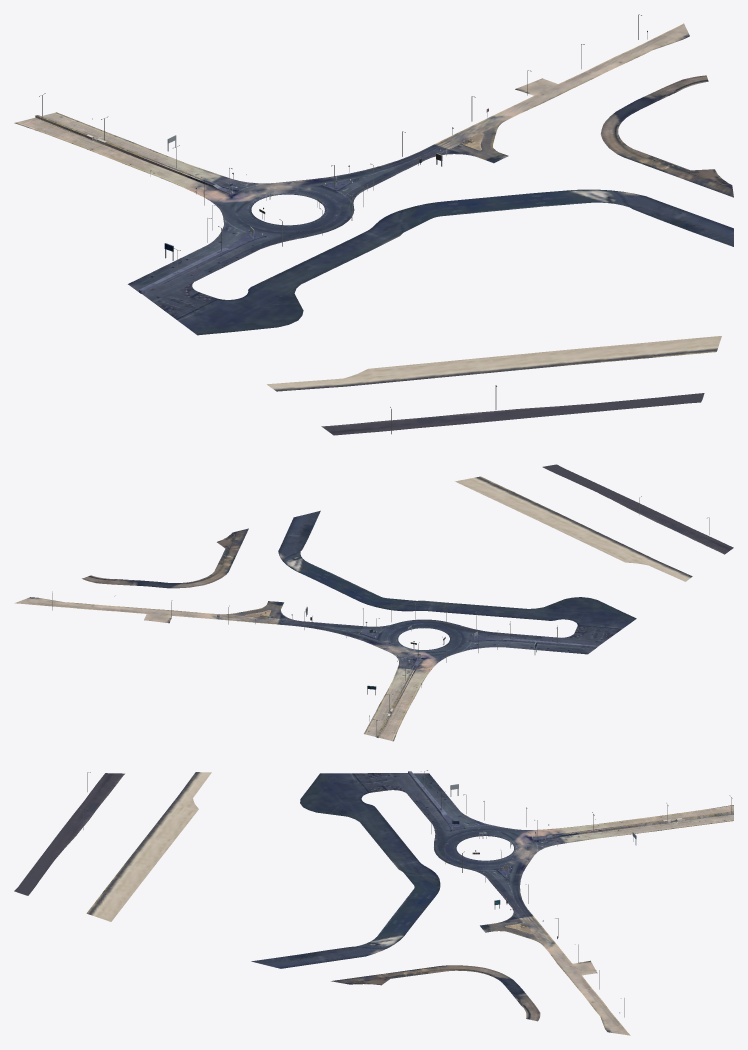
File: roads_context_13.glb
The picture shows the model from 3 angles, top to bottom: view 1: azimuth 30°, elevation 25°; view 2: azimuth 150°, elevation 25°; view 3: azimuth 270°, elevation 25°; orthographic projection. The views are drawn at different scales.
Parts seen in each view (by area): view 1: I105001680001062A1.001; view 2: I105001680001062A1.001; view 3: I105001680001062A1.001.
Part boxes in pixels (bbox=[...]): I105001680001062A1.001: bbox=[14, 14, 733, 435]; I105001680001062A1.001: bbox=[14, 464, 733, 741]; I105001680001062A1.001: bbox=[14, 770, 733, 1035].
Bounding box in the file's own units: 323 × 13.47 × 375.
24 materials, 23 textured.
